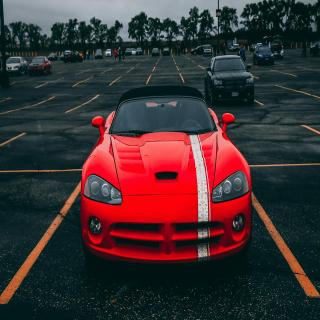Normal_vehicle: (81, 87, 255, 271), (202, 51, 256, 104), (5, 53, 28, 78), (254, 45, 276, 71), (230, 40, 252, 64), (272, 37, 290, 61), (190, 44, 215, 61), (30, 55, 50, 76), (59, 50, 84, 65), (125, 46, 145, 58), (48, 51, 58, 64), (94, 51, 104, 62), (104, 48, 115, 58), (162, 47, 172, 57), (152, 46, 160, 56)
